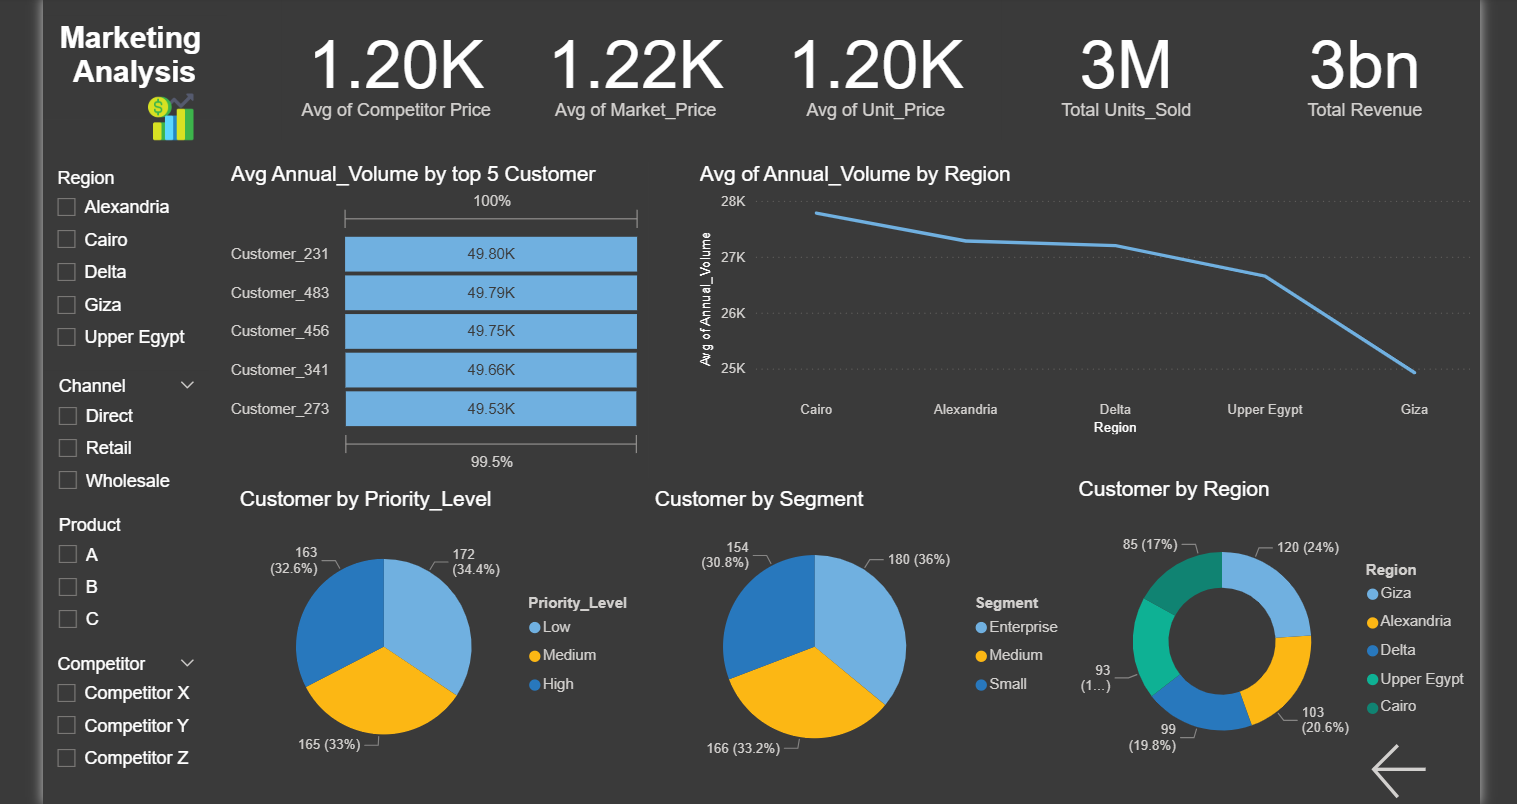

The dashboard page shown, as its layout file describes it:
{"tool":"powerbi","page":{"name":"Customer_Analysis","canvas":[1280,720],"ordinal":3},"visuals":[{"type":"card","fields":{"Values":["Avg(Sales_Data.Unit_Price)"]},"box":[630.4,0,223.3,127.3],"z":0},{"type":"card","fields":{"Values":["Sum(Sales_Data.Units_Sold)"]},"box":[853.7,0,222.1,127.3],"z":1000},{"type":"card","fields":{"Values":["Sum(Sales_Data.Revenue)"]},"box":[1075.9,0,204.1,127.3],"z":2000},{"type":"slicer","fields":{"Values":["Customer_Segments.Region"]},"box":[0,146.5,147.7,186.1],"z":3000},{"type":"slicer","fields":{"Values":["Sales_Data.Product"]},"box":[1.2,456.3,147.7,123.7],"z":4000},{"type":"slicer","fields":{"Values":["Competitor_Analysis.Competitor"]},"box":[0,580,147.7,120.1],"z":5000},{"type":"card","fields":{"Values":["Avg(Market_Prices.Average_Market_Price)"]},"box":[416.7,0,223.3,127.3],"z":6000},{"type":"card","fields":{"Values":["Avg(Competitor_Analysis.Price)"]},"box":[212.5,0,204.1,127.3],"z":7000},{"type":"textbox","box":[0,16.8,163.3,92.5],"z":8000},{"type":"image","box":[74.4,78,78,57.6],"z":9000},{"type":"slicer","fields":{"Values":["Sales_Data.Channel"]},"box":[1.2,332.6,146.5,123.7],"z":10000},{"type":"funnel","fields":{"Category":["Customer_Segments.Customer"],"Y":["Avg(Customer_Segments.Annual_Volume)"]},"box":[162.8,146.5,376.7,281.4],"z":11000},{"type":"pieChart","fields":{"Category":["Customer_Segments.Priority_Level"],"Y":["CountNonNull(Customer_Segments.Customer)"]},"box":[169.8,436,369.8,264],"z":12000},{"type":"donutChart","fields":{"Category":["Customer_Segments.Region"],"Y":["CountNonNull(Customer_Segments.Customer)"]},"box":[917.4,427.9,362.8,272.1],"z":13000},{"type":"pieChart","fields":{"Category":["Customer_Segments.Segment"],"Y":["CountNonNull(Customer_Segments.Customer)"]},"box":[539.5,436,377.9,264],"z":14000},{"type":"lineChart","fields":{"Category":["Customer_Segments.Region"],"Y":["Avg(Customer_Segments.Annual_Volume)"]},"box":[580.2,146.5,700,247.7],"z":15000},{"type":"actionButton","box":[1177.8,659.4,85.7,60.9],"z":15002}]}

Visuals, with their boxes on the page's 1280x720 design canvas (x1, y1, x2, y2). These are canvas units, not pixel positions in the 1517x804 screenshot, which may show the page scaled, cropped or inside an application window:
card - Avg(Sales_Data.Unit_Price): [630, 0, 854, 127]
card - Sum(Sales_Data.Units_Sold): [854, 0, 1076, 127]
card - Sum(Sales_Data.Revenue): [1076, 0, 1280, 127]
slicer - Customer_Segments.Region: [0, 146, 148, 333]
slicer - Sales_Data.Product: [1, 456, 149, 580]
slicer - Competitor_Analysis.Competitor: [0, 580, 148, 700]
card - Avg(Market_Prices.Average_Market_Price): [417, 0, 640, 127]
card - Avg(Competitor_Analysis.Price): [212, 0, 417, 127]
textbox: [0, 17, 163, 109]
image: [74, 78, 152, 136]
slicer - Sales_Data.Channel: [1, 333, 148, 456]
funnel - Customer_Segments.Customer x Avg(Customer_Segments.Annual_Volume): [163, 146, 540, 428]
pieChart - Customer_Segments.Priority_Level x CountNonNull(Customer_Segments.Customer): [170, 436, 540, 700]
donutChart - Customer_Segments.Region x CountNonNull(Customer_Segments.Customer): [917, 428, 1280, 700]
pieChart - Customer_Segments.Segment x CountNonNull(Customer_Segments.Customer): [540, 436, 917, 700]
lineChart - Customer_Segments.Region x Avg(Customer_Segments.Annual_Volume): [580, 146, 1280, 394]
actionButton: [1178, 659, 1264, 720]
